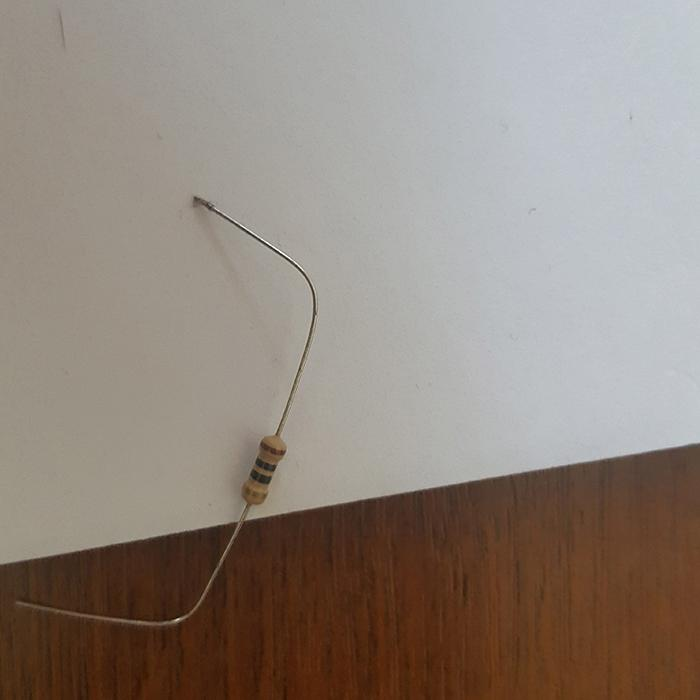resistor: (243, 434, 286, 506)
